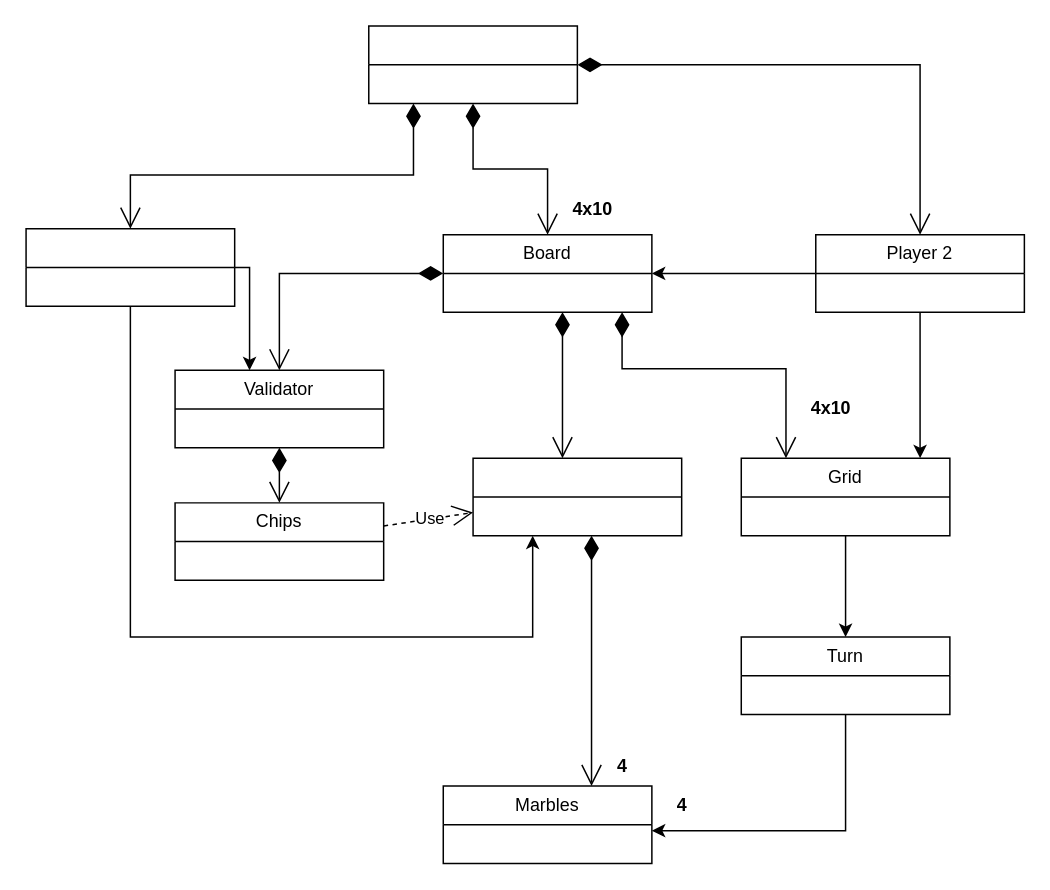
This 1050x890 diagram has some shape labels left out. The shapes that lost their labels are listed below. From the top down, each one's centre as x and y in pixels, then its label:
At (472,64): "Mastermind".
At (130,266): "Player 1".
At (577,496): "Code".
